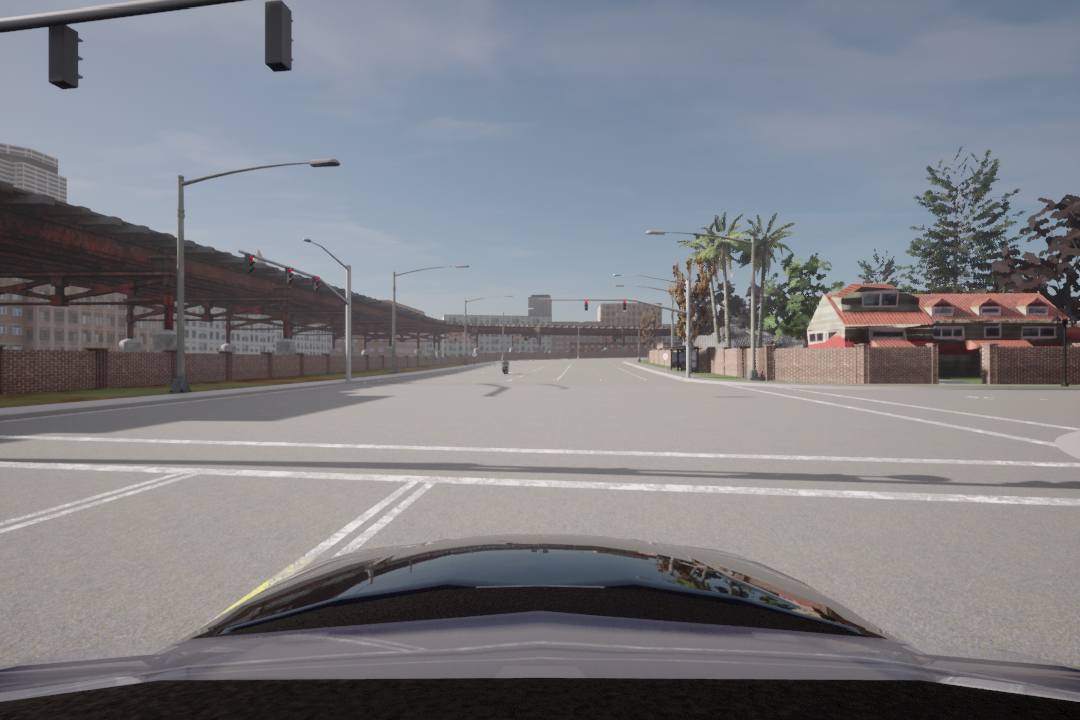TrafficLight: (245, 252, 255, 275), (285, 265, 295, 287), (312, 274, 321, 294), (621, 299, 629, 312), (584, 298, 590, 314)
